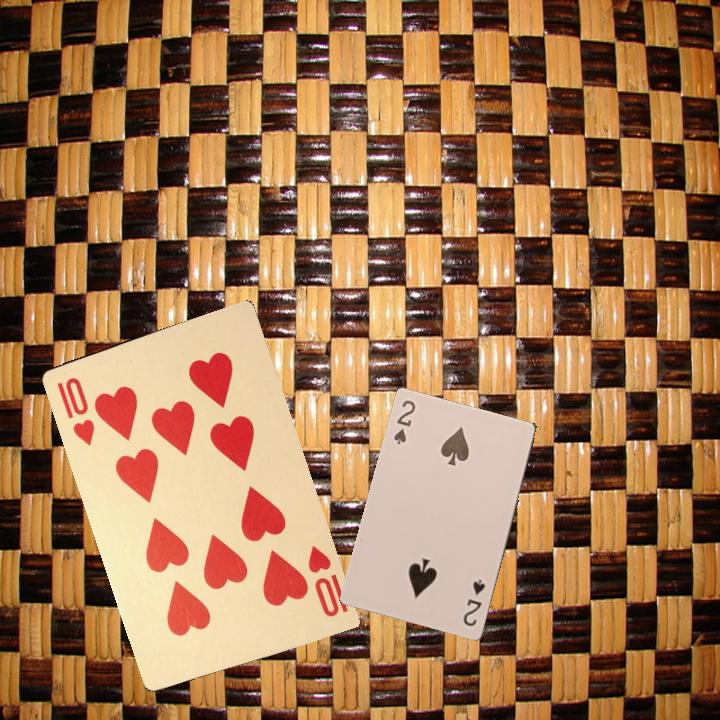10h: (303, 542, 351, 620), (53, 373, 98, 448)
2s: (459, 576, 488, 629), (390, 396, 418, 447)
